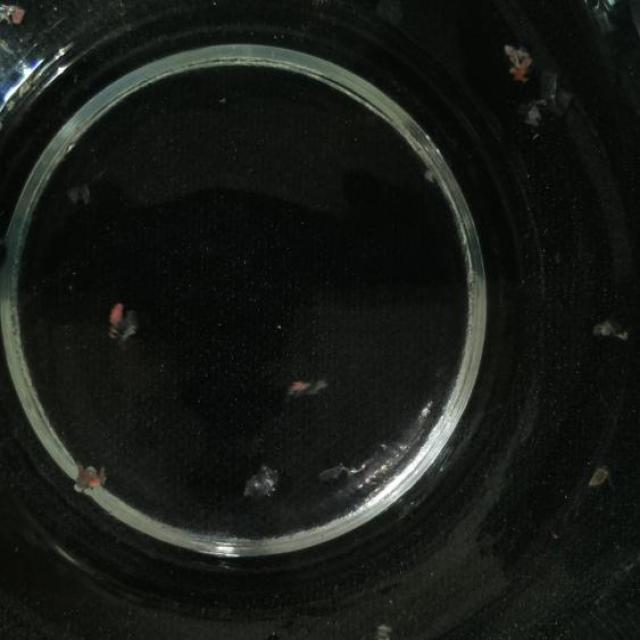fiber: (514, 77, 578, 143), (242, 458, 284, 502), (102, 300, 140, 347), (594, 311, 633, 346), (503, 43, 532, 85), (71, 462, 109, 493), (283, 374, 334, 396), (0, 1, 27, 31), (589, 459, 614, 490), (69, 186, 100, 209), (374, 616, 396, 640)
